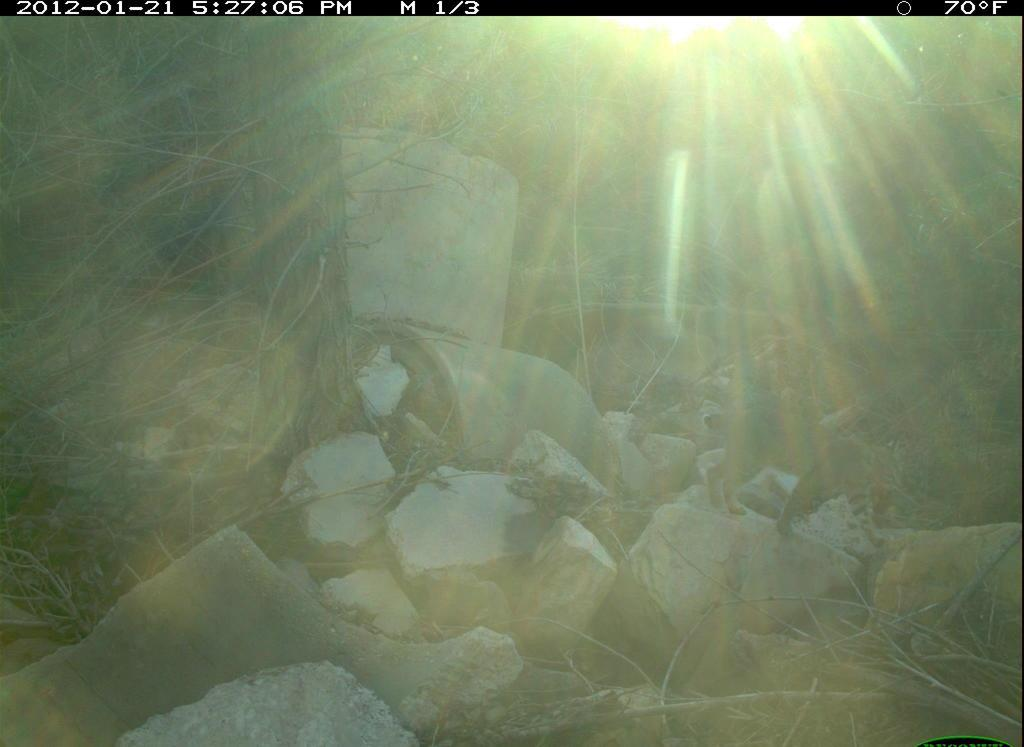bobcat: (690, 389, 910, 564)
